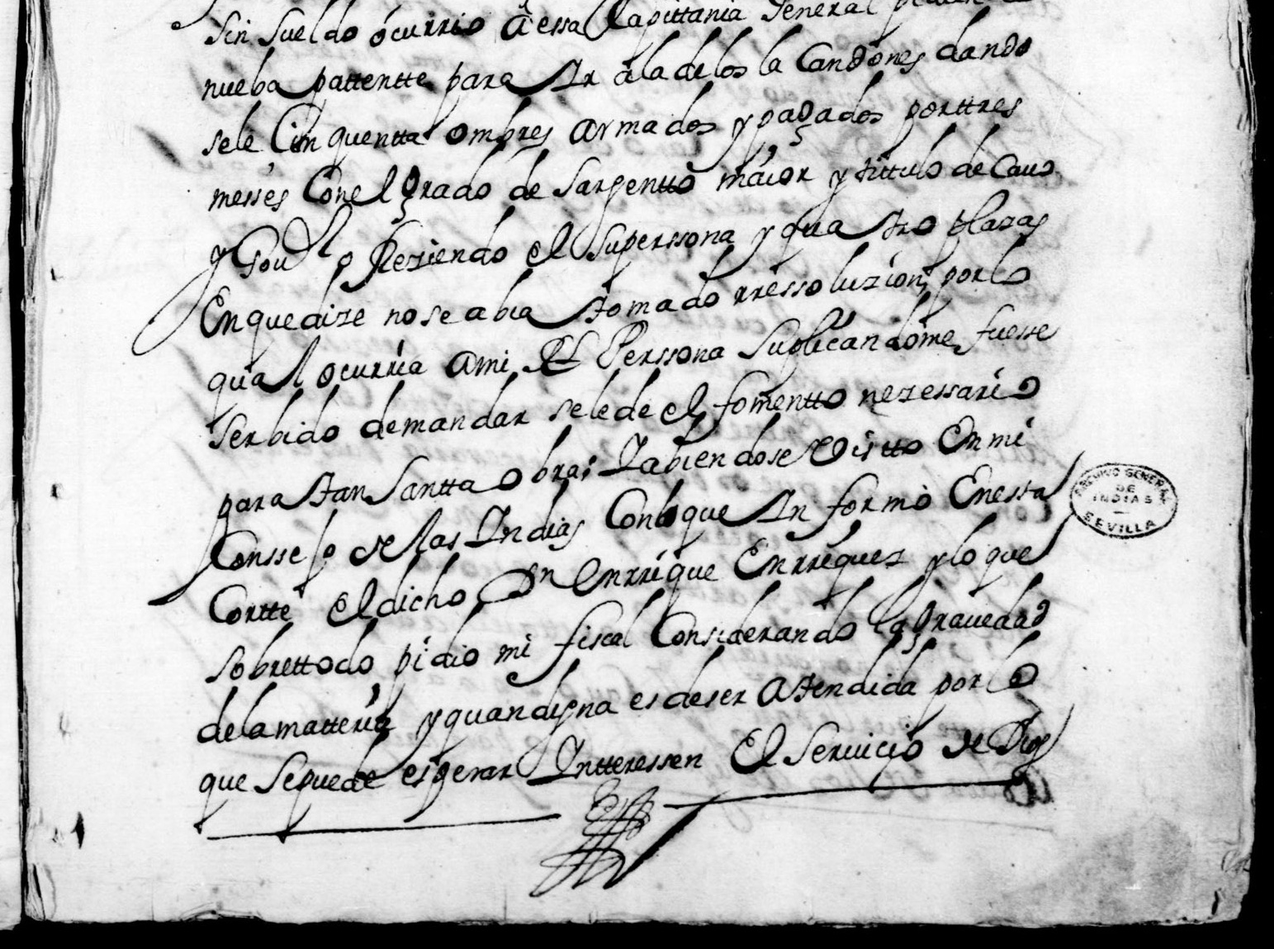lacandon: (759, 22, 926, 75)
